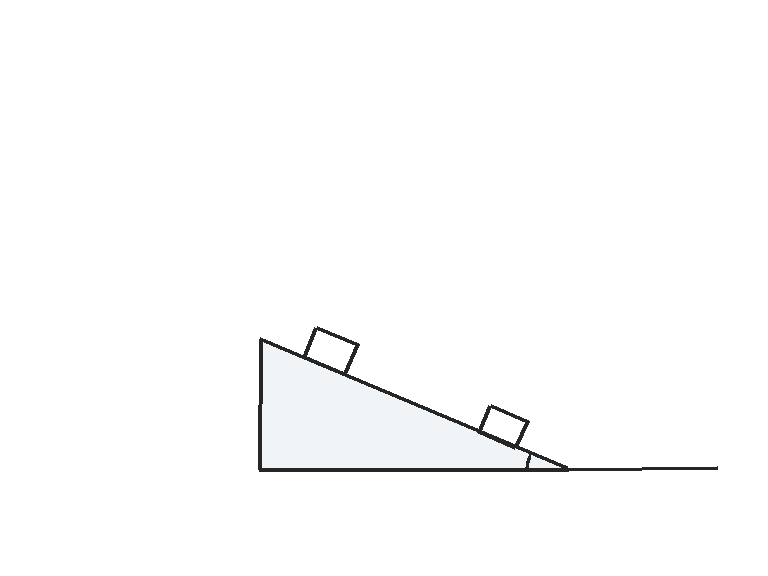block: (301, 325, 359, 376), (477, 403, 528, 449)
ramp: (258, 337, 569, 471)
